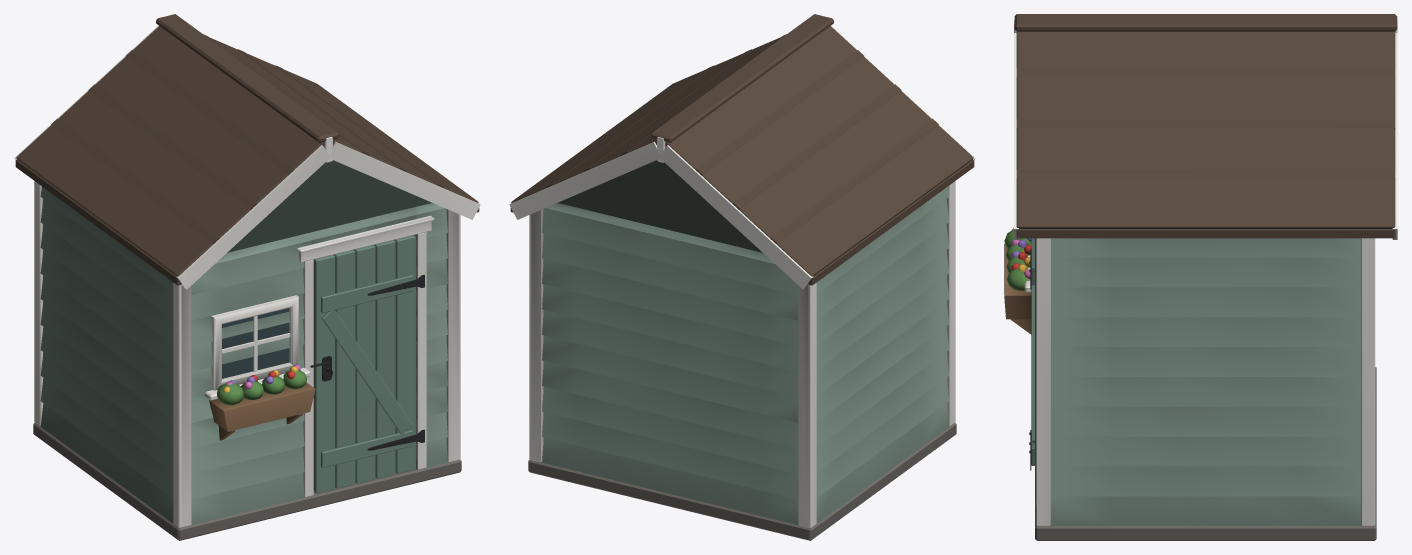
File: shedSmall.glb
3 views of the same model, side by side, from view 1: azimuth 30°, elevation 25°; view 2: azimuth 150°, elevation 25°; view 3: azimuth 270°, elevation 25° (orthographic). The views are drawn at different scales.
Parts seen in each view (by area): view 1: shed, door; view 2: shed; view 3: shed, door.
Part boxes in pixels (bbox=[...]): shed: bbox=[14, 14, 480, 540]; door: bbox=[310, 235, 424, 493]; shed: bbox=[509, 14, 975, 540]; shed: bbox=[1004, 14, 1397, 540]; door: bbox=[1029, 238, 1035, 497].
Size of the model in its own units: 1.98 by 2.37 by 1.91.
